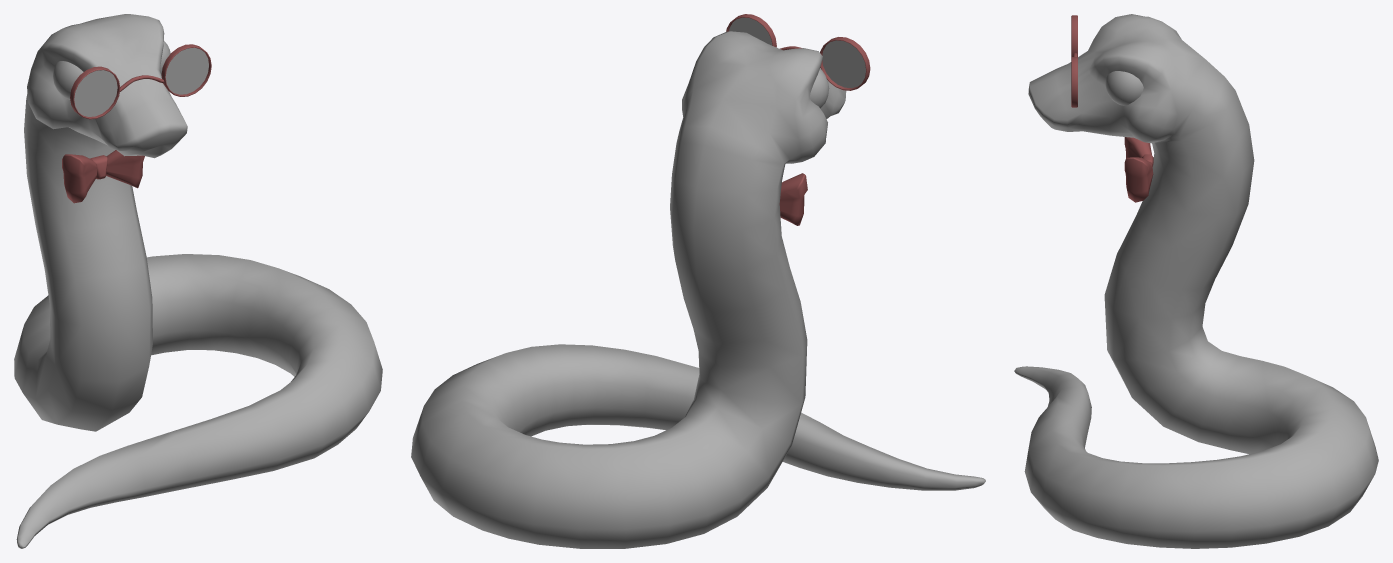
The model's file is SM_Snake_02a.fbx.
3 views of the same model, side by side, from view 1: azimuth 30°, elevation 25°; view 2: azimuth 150°, elevation 25°; view 3: azimuth 270°, elevation 25° (orthographic). The views are drawn at different scales.
Visible parts, largest first — view 1: Base_low, fiocco, pCylinder4, pCylinder5, occhiali1, Eyeball_low; view 2: Base_low, pCylinder5, fiocco, occhiali1; view 3: Base_low, fiocco, Eyeball_low, occhiali1.
Boxes of the visible parts, x1,y1,x2,y2 form: Base_low: [14, 14, 382, 548]; fiocco: [62, 150, 144, 203]; pCylinder4: [165, 47, 208, 94]; pCylinder5: [74, 70, 117, 116]; occhiali1: [70, 44, 211, 119]; Eyeball_low: [53, 41, 170, 99]; Base_low: [411, 31, 985, 548]; pCylinder5: [822, 40, 865, 88]; fiocco: [779, 173, 807, 225]; occhiali1: [726, 14, 870, 90]; Base_low: [1014, 14, 1378, 548]; fiocco: [1124, 137, 1153, 202]; Eyeball_low: [1105, 71, 1143, 105]; occhiali1: [1071, 15, 1077, 107].
Bounding box in the file's own units: 110 × 106 × 85.78.
